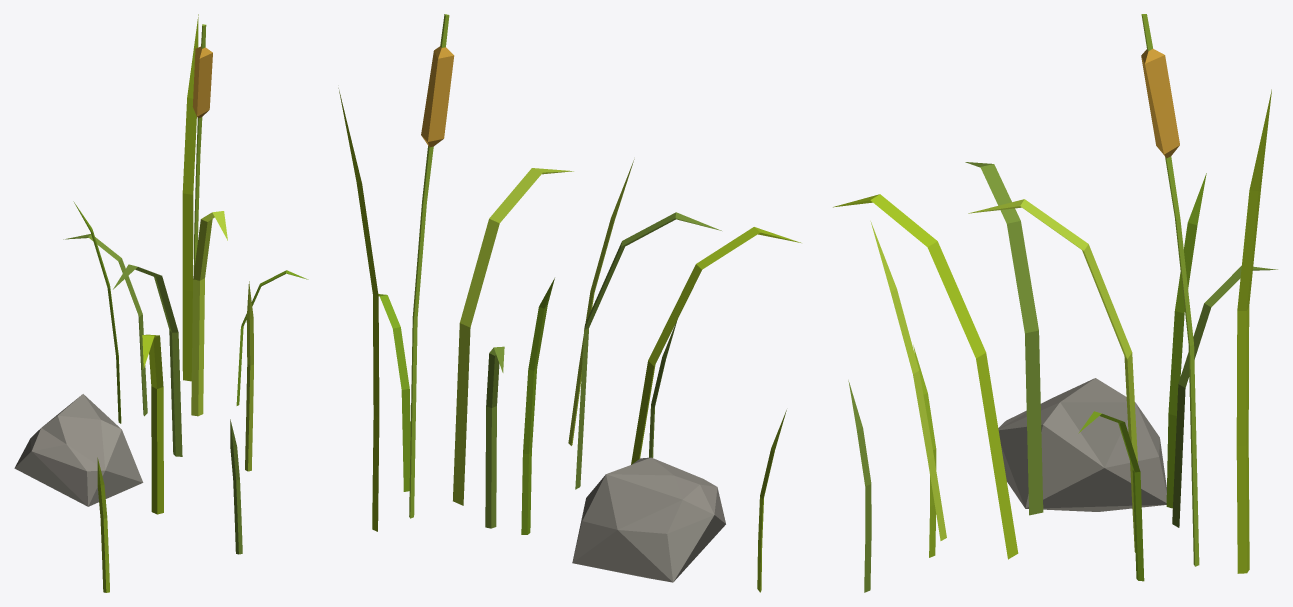
File: pond_plant2.FBX
3 views of the same model, side by side, from view 1: azimuth 30°, elevation 25°; view 2: azimuth 150°, elevation 25°; view 3: azimuth 270°, elevation 25° (orthographic). The views are drawn at different scales.
Parts seen in each view (by area): view 1: Object008; view 2: Object008; view 3: Object008.
Part boxes in pixels (x1,y1,x2,y2): Object008: (14,14,308,592); Object008: (338,14,800,592); Object008: (833,14,1277,592).
Size of the model in its own units: 5.95 by 9.73 by 5.97.
Materials: 1 (1 with a texture image).
